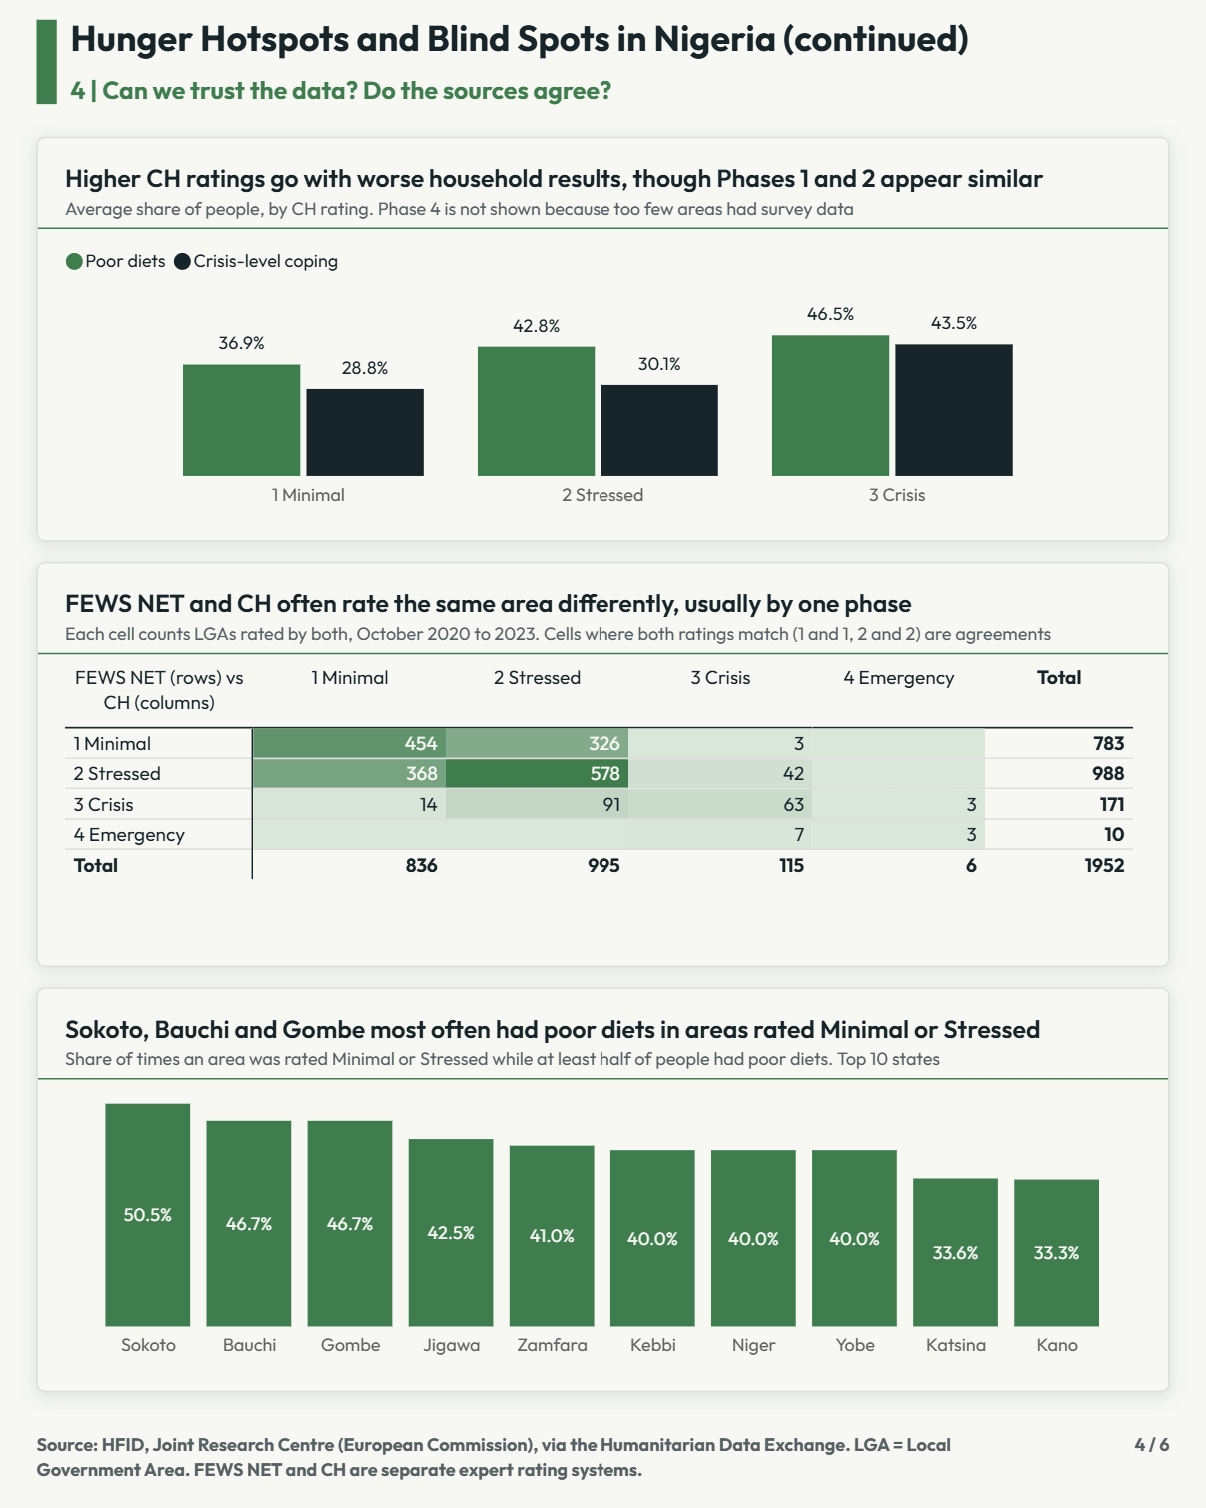

What the dashboard file says about the page in this screenshot:
{"tool":"powerbi","page":{"name":"4. Agreement","canvas":[720,900],"ordinal":3},"visuals":[{"type":"shape","box":[24,15,12,50],"z":0},{"type":"textbox","box":[44,12,652,32],"z":1000},{"type":"textbox","box":[44,46,460,24],"z":2000},{"type":"textbox","box":[24,850,596,30],"z":3000},{"type":"textbox","box":[636,850,60,18],"z":4000},{"type":"clusteredColumnChart","title":"Higher CH ratings go with worse household results, though Phases 1 and 2 appear similar","fields":{"Category":["Hunger.CH Phase Label"],"Y":["_Measures.Avg FCS","_Measures.Avg rCSI"]},"box":[24,84,672,240],"z":5000},{"type":"pivotTable","title":"FEWS NET and CH often rate the same area differently, usually by one phase","fields":{"Columns":["Hunger.CH Phase Label"],"Rows":["Hunger.FEWS Phase Label"],"Values":["_Measures.Overlap LGA-Months"]},"box":[24,336,672,240],"z":6000},{"type":"clusteredColumnChart","title":"Sokoto, Bauchi and Gombe most often had poor diets in areas rated Minimal or Stressed","fields":{"Category":["Hunger.State"],"Y":["_Measures.Hidden Hunger Rate"]},"box":[24,588,672,240],"z":7000}]}

Visuals, with their boxes in screenshot pixels (x1, y1, x2, y2), scaled from the page's 720x900 canvas onto the 1206x1508 screenshot:
shape: left=40, top=25, right=60, bottom=109
textbox: left=74, top=20, right=1166, bottom=74
textbox: left=74, top=77, right=844, bottom=117
textbox: left=40, top=1424, right=1038, bottom=1474
textbox: left=1065, top=1424, right=1166, bottom=1454
"Higher CH ratings go with worse household results, though Phases 1 and 2 appear similar" clusteredColumnChart: left=40, top=141, right=1166, bottom=543
"FEWS NET and CH often rate the same area differently, usually by one phase" pivotTable: left=40, top=563, right=1166, bottom=965
"Sokoto, Bauchi and Gombe most often had poor diets in areas rated Minimal or Stressed" clusteredColumnChart: left=40, top=985, right=1166, bottom=1387
